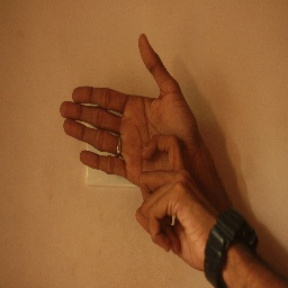R: (56, 26, 201, 241)
